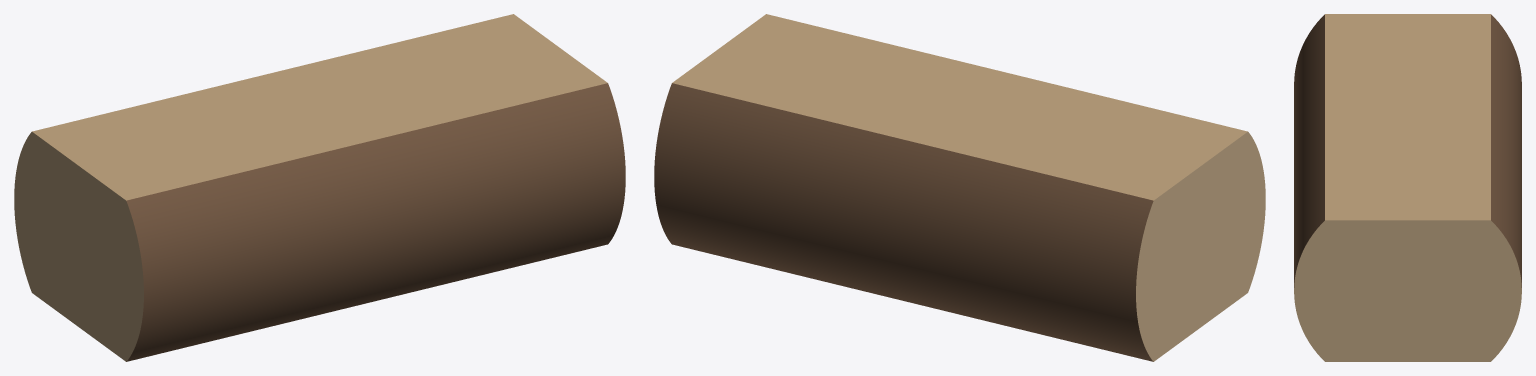
The model's file is SM_RawLog_75_Hewn2.fbx.
3 renders of one model, left to right at view 1: azimuth 30°, elevation 25°; view 2: azimuth 150°, elevation 25°; view 3: azimuth 270°, elevation 25°, orthographic. The views are drawn at different scales.
Parts seen in each view (by area): view 1: RawLog_75_Hewn2; view 2: RawLog_75_Hewn2; view 3: RawLog_75_Hewn2.
Part boxes in pixels (<box>): RawLog_75_Hewn2: <box>14,14,625,361</box>; RawLog_75_Hewn2: <box>654,14,1265,361</box>; RawLog_75_Hewn2: <box>1294,14,1521,361</box>.
Size of what is drawn, in the model's own units: 0.75 by 0.24 by 0.35.
